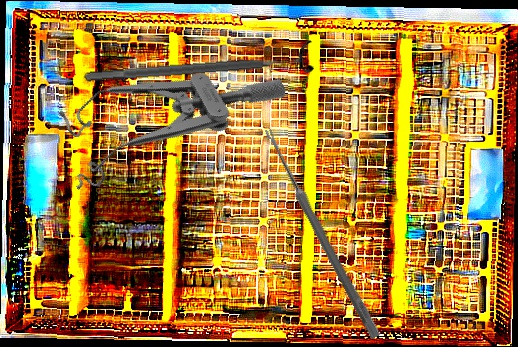Fixation Ring: (82, 39, 316, 95)
Speculum: (39, 8, 289, 209)
Surgical Spoon: (261, 126, 382, 340)
